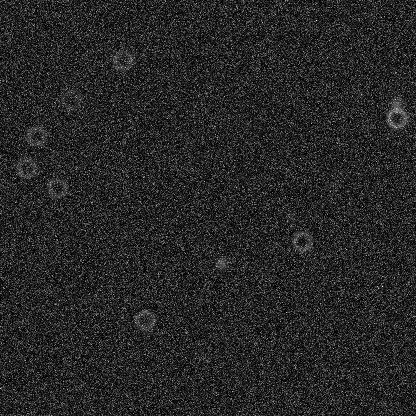Ring: (132, 307, 156, 331), (44, 175, 68, 199), (58, 87, 82, 111), (384, 105, 408, 129), (14, 155, 38, 179), (24, 124, 48, 148), (290, 229, 314, 253), (110, 48, 134, 72)
Spot: (388, 95, 404, 111), (281, 207, 297, 223), (213, 255, 229, 271)
